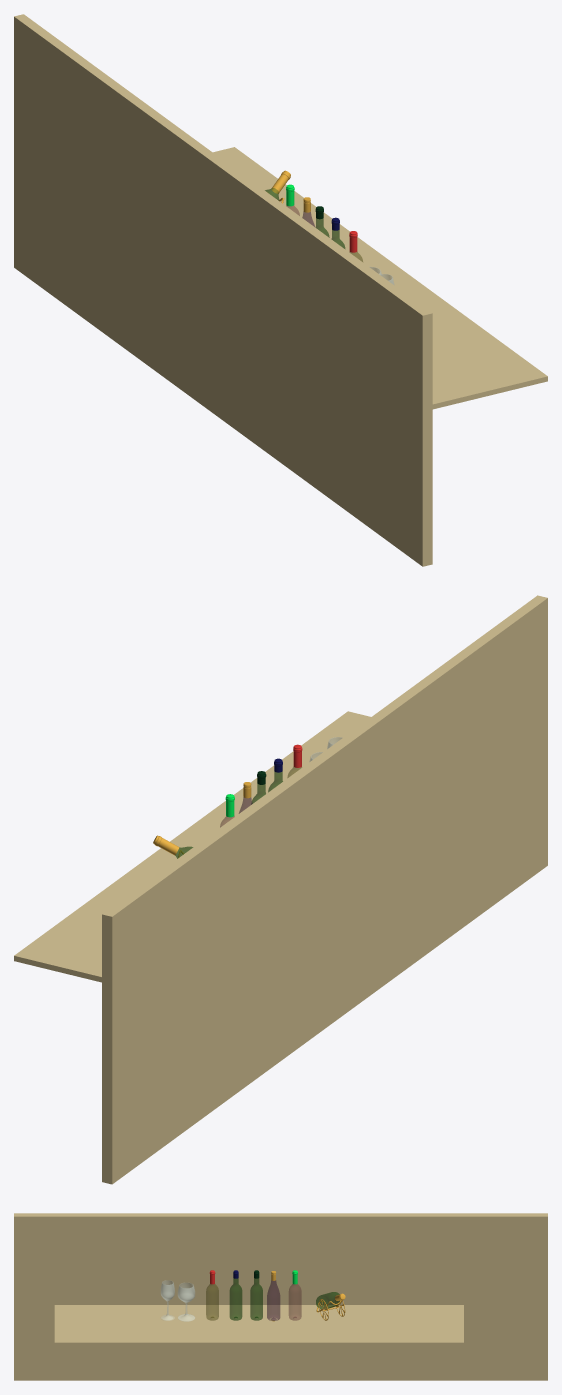
File: bottle.glb
The picture shows the model from 3 angles, top to bottom: view 1: azimuth 30°, elevation 25°; view 2: azimuth 150°, elevation 25°; view 3: azimuth 270°, elevation 25°; orthographic projection. The views are drawn at different scales.
Visible parts, largest first — view 1: Cube.001, Cube; view 2: Cube.001, Cube; view 3: Cube.001, Cube, Cylinder.001, Cylinder, Cylinder.006, Cylinder.013, Cylinder.005, Cylinder.004, Cylinder.002, Cylinder.009.
Part boxes in pixels (<box>): Cube.001: <box>14,14,432,566</box>; Cube: <box>213,147,547,409</box>; Cube.001: <box>102,595,547,1184</box>; Cube: <box>14,711,370,982</box>; Cube.001: <box>14,1213,547,1380</box>; Cube: <box>54,1305,463,1345</box>; Cylinder.001: <box>229,1270,242,1320</box>; Cylinder: <box>267,1271,280,1321</box>; Cylinder.006: <box>250,1270,262,1320</box>; Cylinder.013: <box>289,1270,301,1320</box>; Cylinder.005: <box>206,1270,218,1320</box>; Cylinder.004: <box>178,1283,194,1321</box>; Cylinder.002: <box>161,1280,174,1320</box>; Cylinder.009: <box>316,1292,345,1308</box>.
Size of the model in its own units: 6.36 by 9.75 by 28.78.
